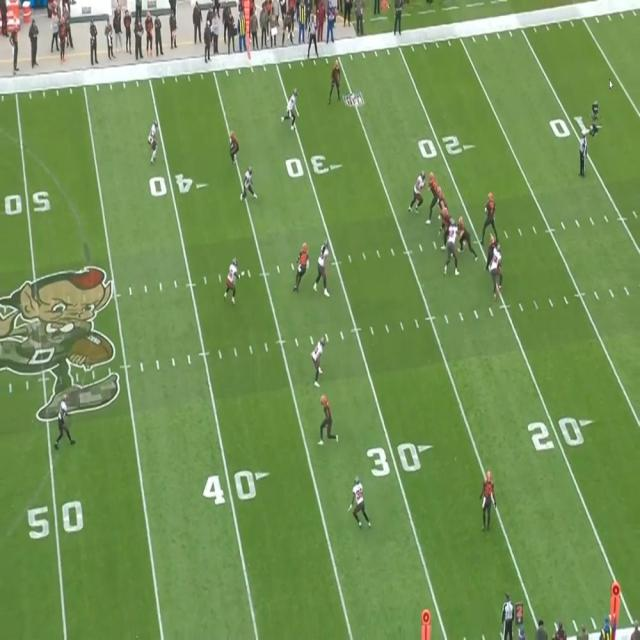db: (352, 480, 367, 527), (312, 338, 325, 383), (56, 398, 68, 446), (148, 120, 158, 162), (288, 91, 299, 127)
lb: (318, 240, 332, 294), (228, 260, 240, 303), (241, 167, 256, 198)
qb: (484, 192, 496, 245)
skill: (481, 470, 494, 529), (322, 396, 336, 444), (299, 241, 312, 287), (330, 58, 341, 102), (229, 131, 238, 166)
